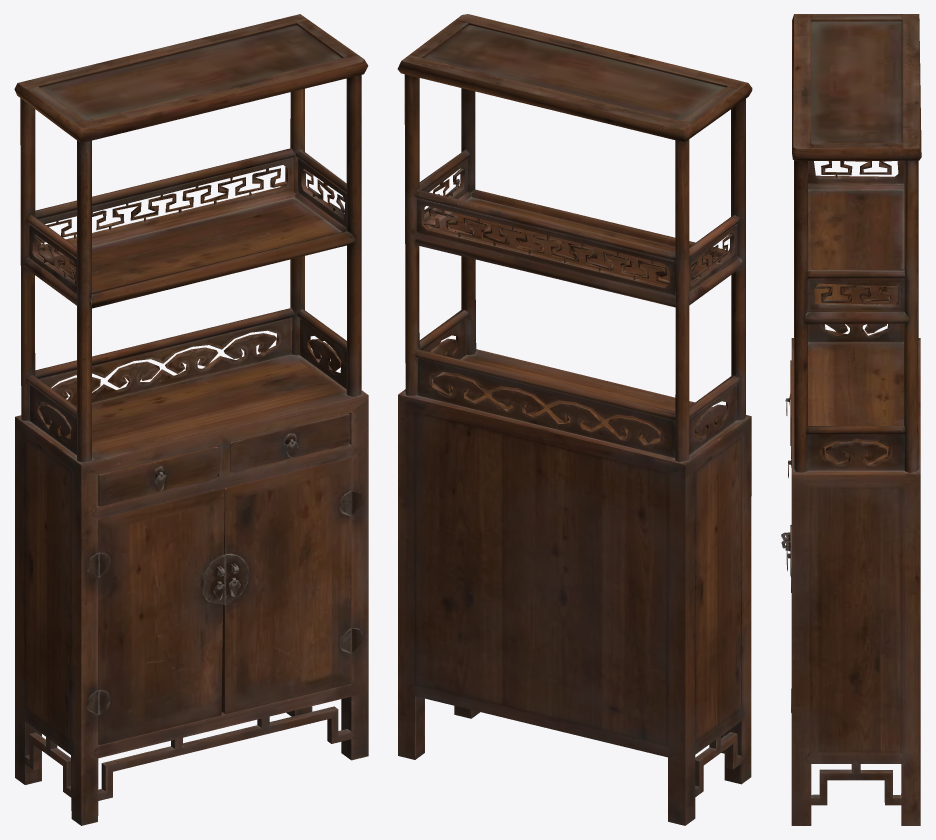
File: chinese_cabinet.glb
3 renders of one model, left to right at view 1: azimuth 30°, elevation 25°; view 2: azimuth 150°, elevation 25°; view 3: azimuth 270°, elevation 25°, orthographic. The views are drawn at different scales.
Visible parts, largest first — view 1: chinese_cabinet; view 2: chinese_cabinet; view 3: chinese_cabinet.
Part boxes in pixels (left/top/right/bottom): chinese_cabinet: left=14, top=14, right=368, bottom=825; chinese_cabinet: left=397, top=14, right=752, bottom=825; chinese_cabinet: left=781, top=14, right=921, bottom=825.
Bounding box in the file's own units: 1.26 × 2.87 × 0.5392.
Materials: 1 (1 with a texture image).
